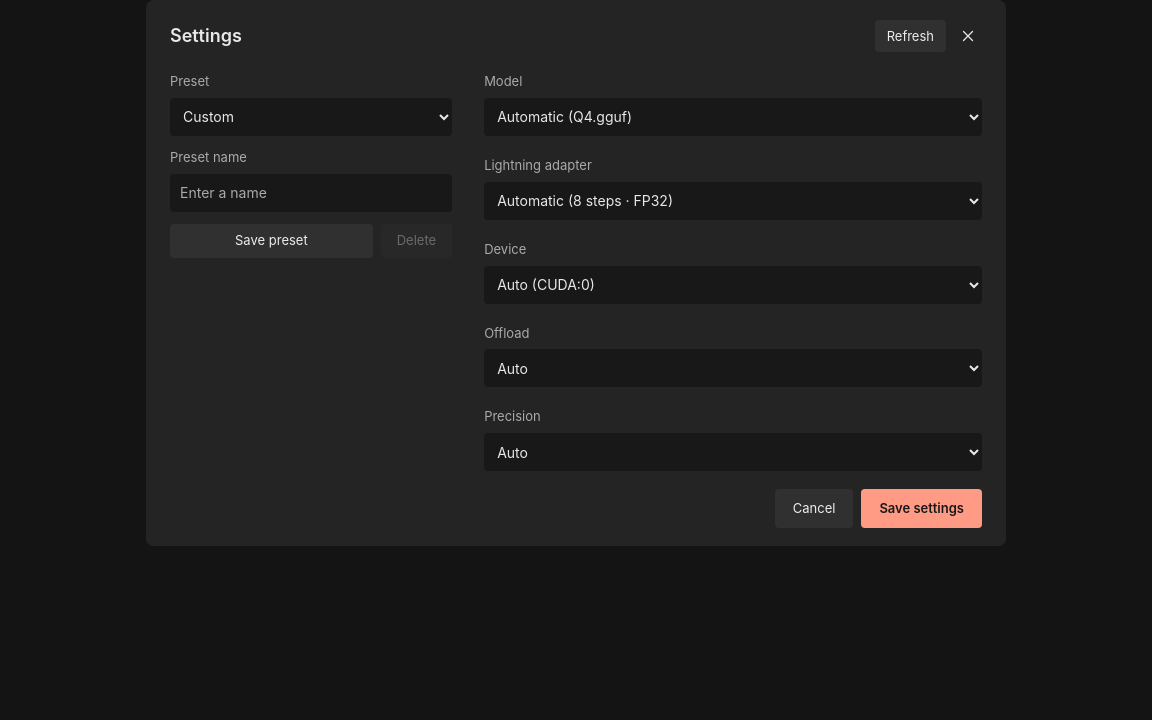
Test: settings modal › shows failed preset writes inside the modal without losing the draft or existing presets
The width and height of the screenshot is (1152, 720).
Select "Q8.gguf" in the dropdown labelled "Model" at (733, 117), box [484,98,982,136]
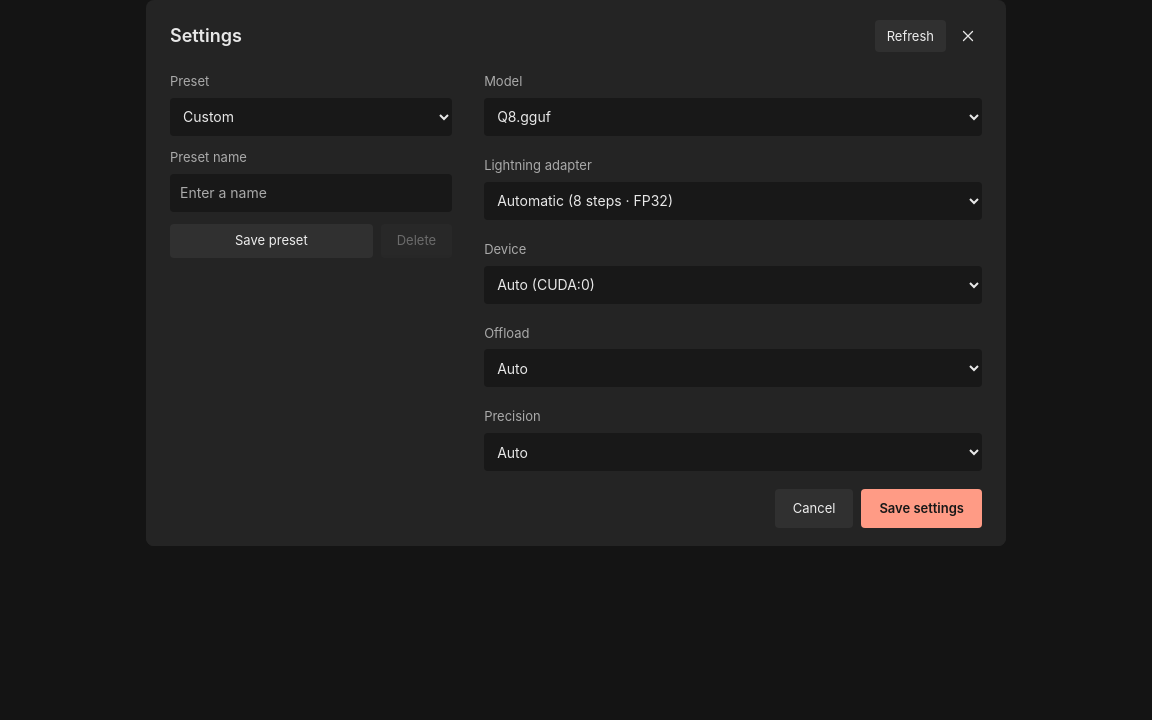
Type "Other" into the field labelled "Preset name".
click(311, 193); type("Other")  # box [170,174,452,212]
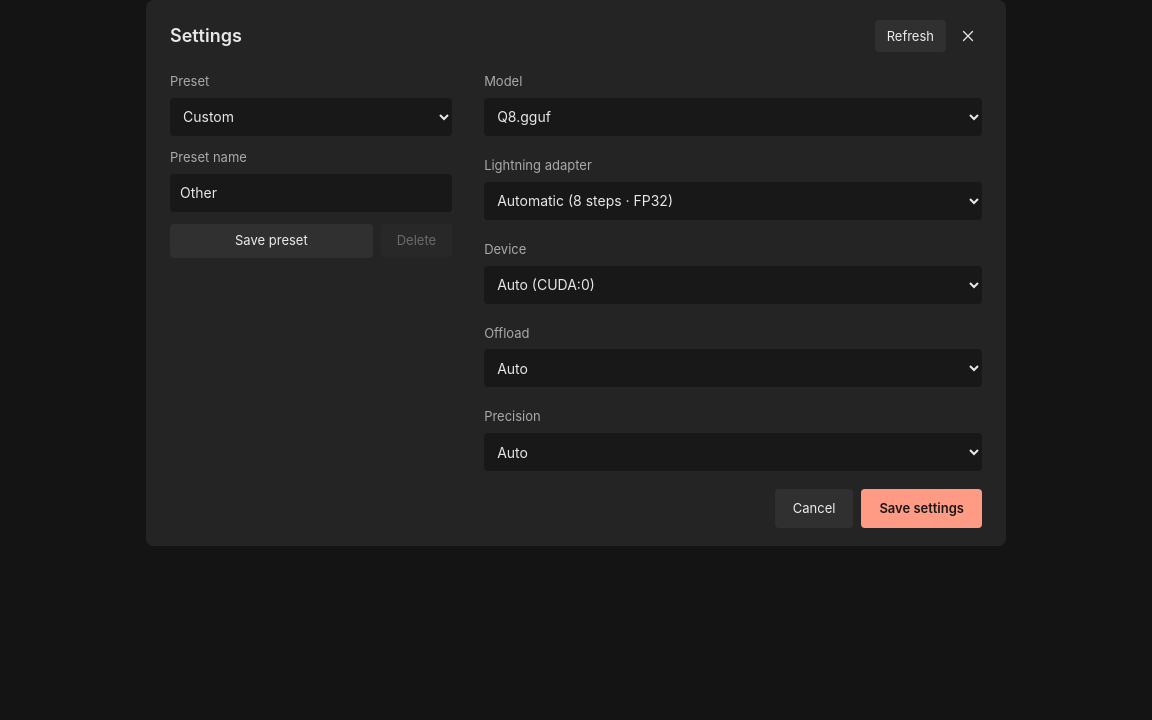
Click the button "Save preset".
click(271, 241)  # box [170,224,373,258]
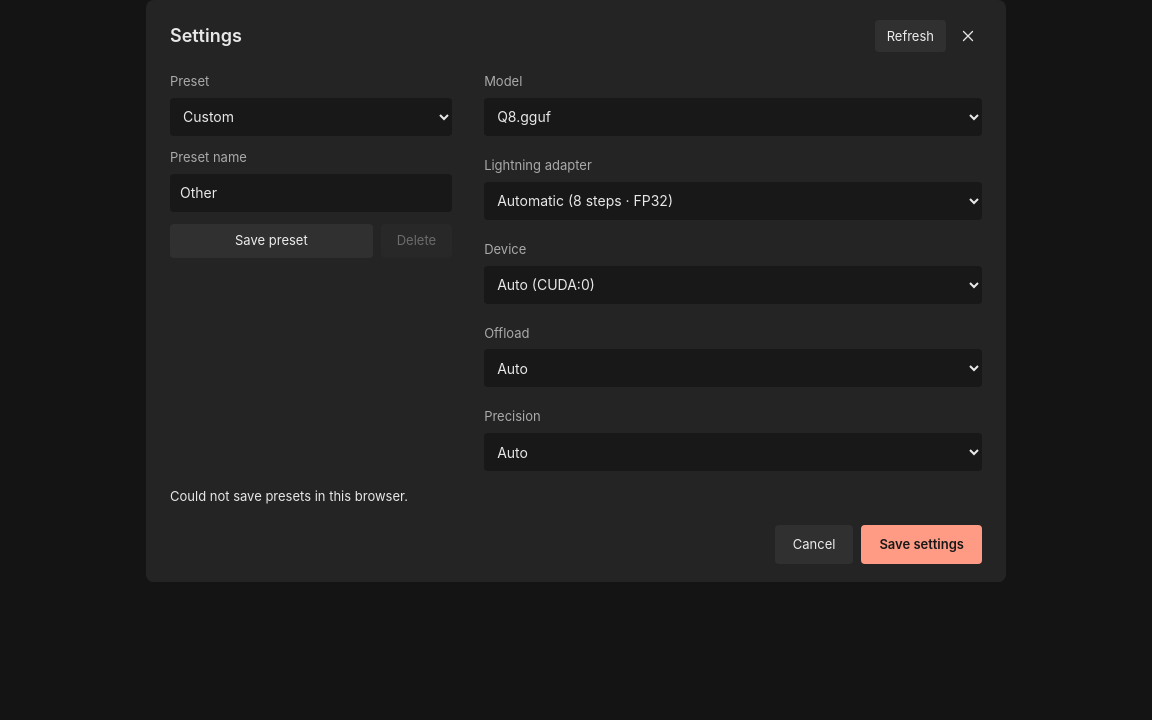
expect the message reads "Could not save presets in this browser.": met, box [170,488,408,504]
expect the number of messages is 1: met, box [170,488,408,504]
